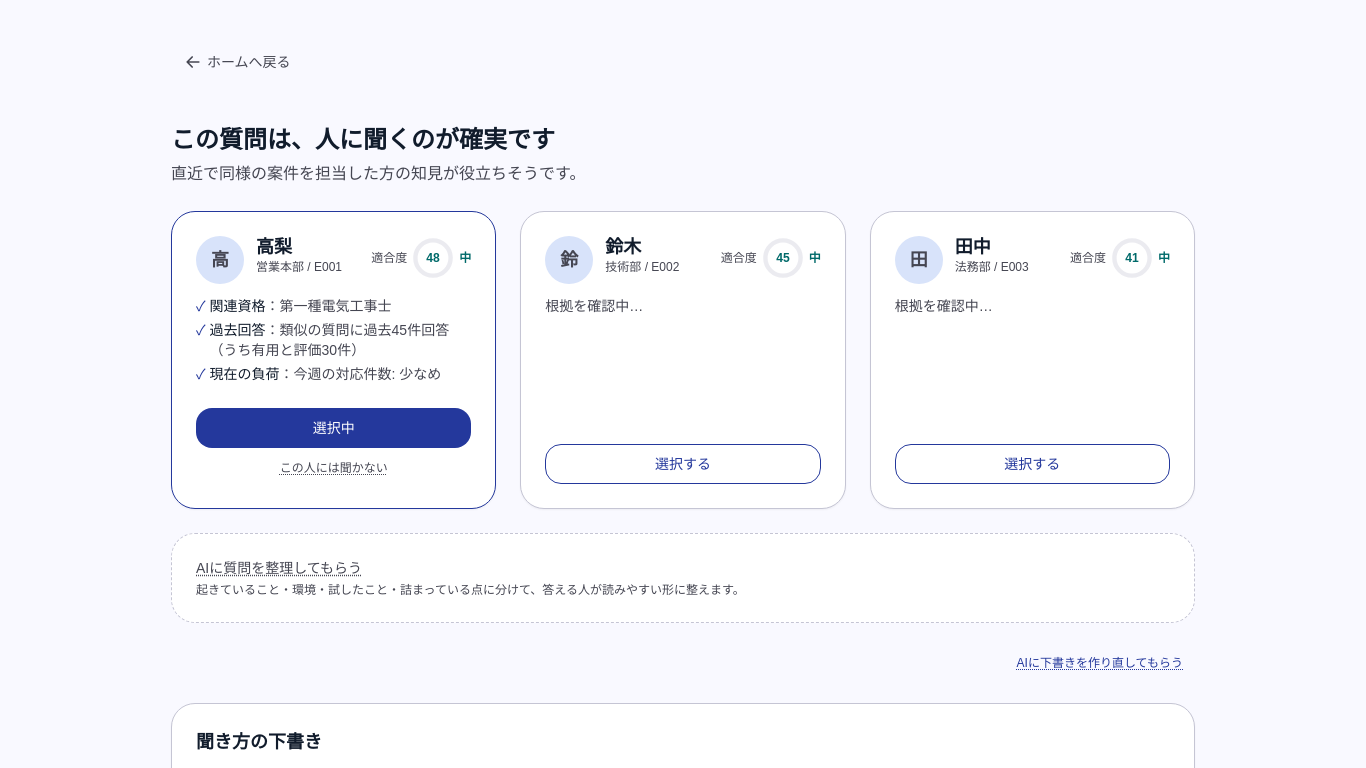
Test: ResultScreen — main line (person) › excludes the send target via 'この人には聞かない' and shows the reroute status (#260)
Click the button "この人には聞かない". click: (334, 468)
box: [196,452,471,484]
(page scrolled)
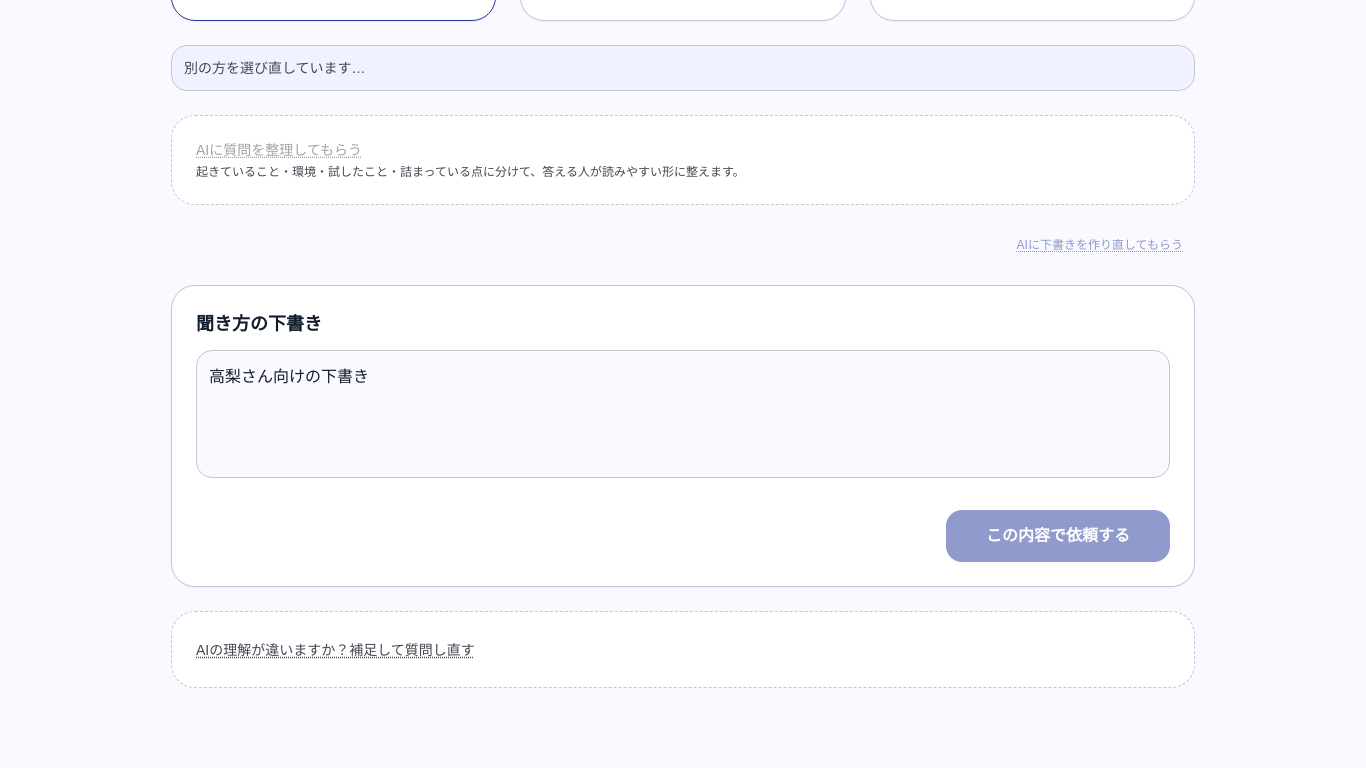
Check: the text "別の方を選び直しています…" is shown, box [171,45,1195,91]
Check: the button "この内容で依頼する" is disabled, box [946,510,1170,562]
